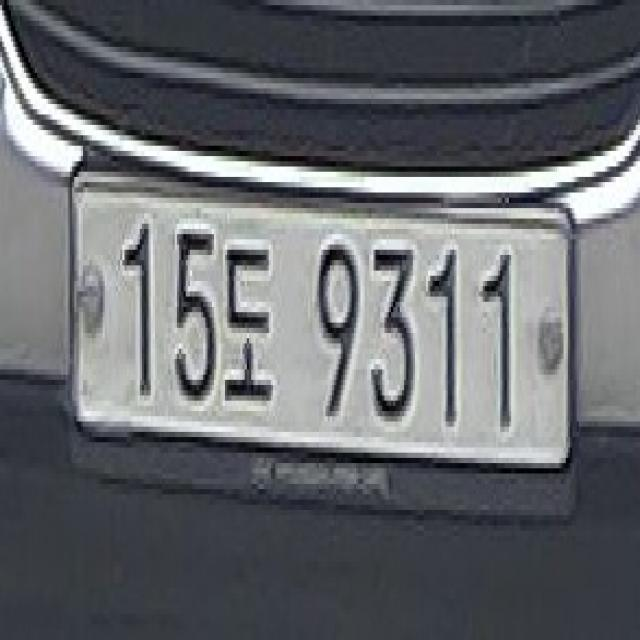1: (472, 229, 522, 447), (424, 234, 469, 448), (118, 213, 164, 406)
3: (364, 229, 422, 437)
5: (166, 214, 221, 416)
9: (312, 234, 362, 432)
do: (220, 229, 278, 416)
license_plate: (63, 156, 581, 541)
